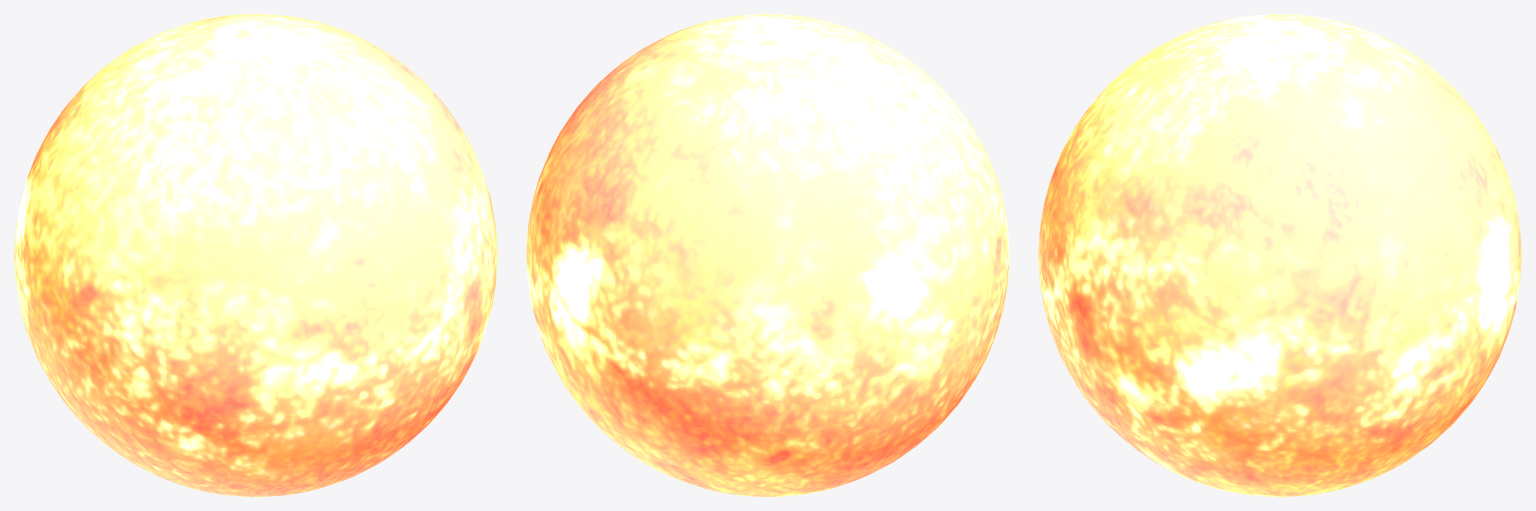
Rendered from sun.glb.
3 renders of one model, left to right at view 1: azimuth 30°, elevation 25°; view 2: azimuth 150°, elevation 25°; view 3: azimuth 270°, elevation 25°, orthographic.
Parts seen in each view (by area): view 1: Sphere; view 2: Sphere; view 3: Sphere.
Part boxes in pixels (bbox=[...]): Sphere: bbox=[14, 14, 497, 496]; Sphere: bbox=[526, 14, 1009, 496]; Sphere: bbox=[1038, 14, 1521, 496].
Size of the model in its own units: 2 by 2 by 2.
